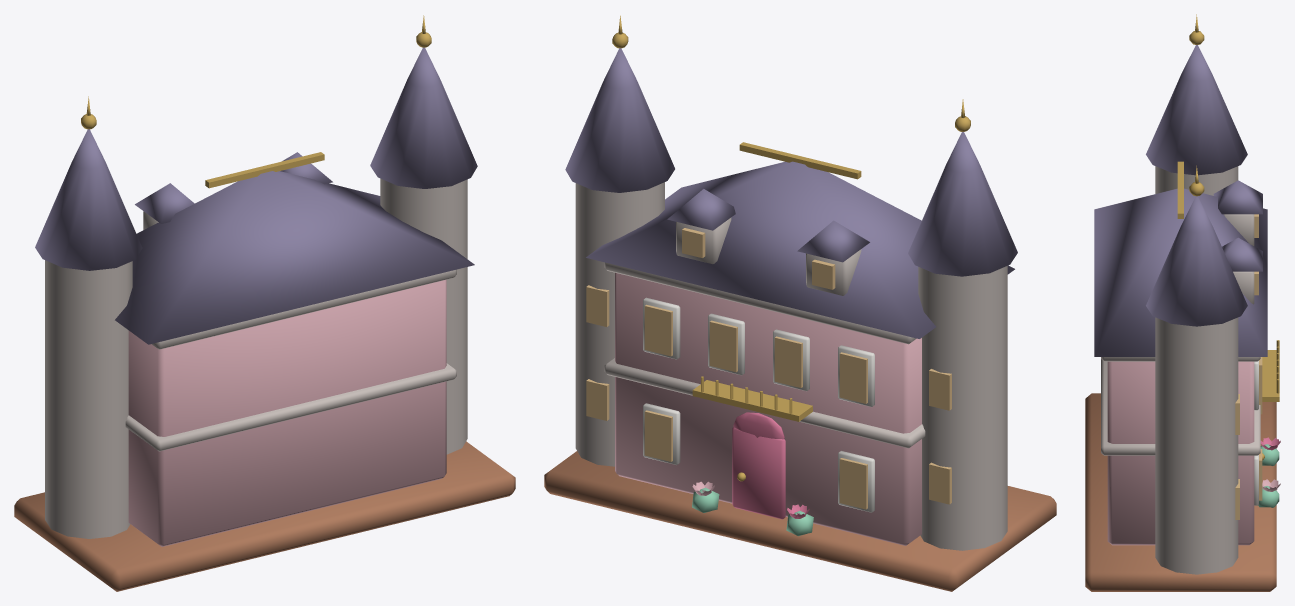
Rendered from dollhouse.glb.
3 views of the same model, side by side, from view 1: azimuth 30°, elevation 25°; view 2: azimuth 150°, elevation 25°; view 3: azimuth 270°, elevation 25° (orthographic). The views are drawn at different scales.
Visible parts, largest first — view 1: dollhouse; view 2: dollhouse; view 3: dollhouse.
Part boxes in pixels (x1,y1,x2,y2): dollhouse: (14, 15, 515, 591); dollhouse: (544, 15, 1056, 591); dollhouse: (1085, 14, 1280, 591).
Size of what is drawn, in the model's own units: 1.4 by 1.4 by 0.6.
